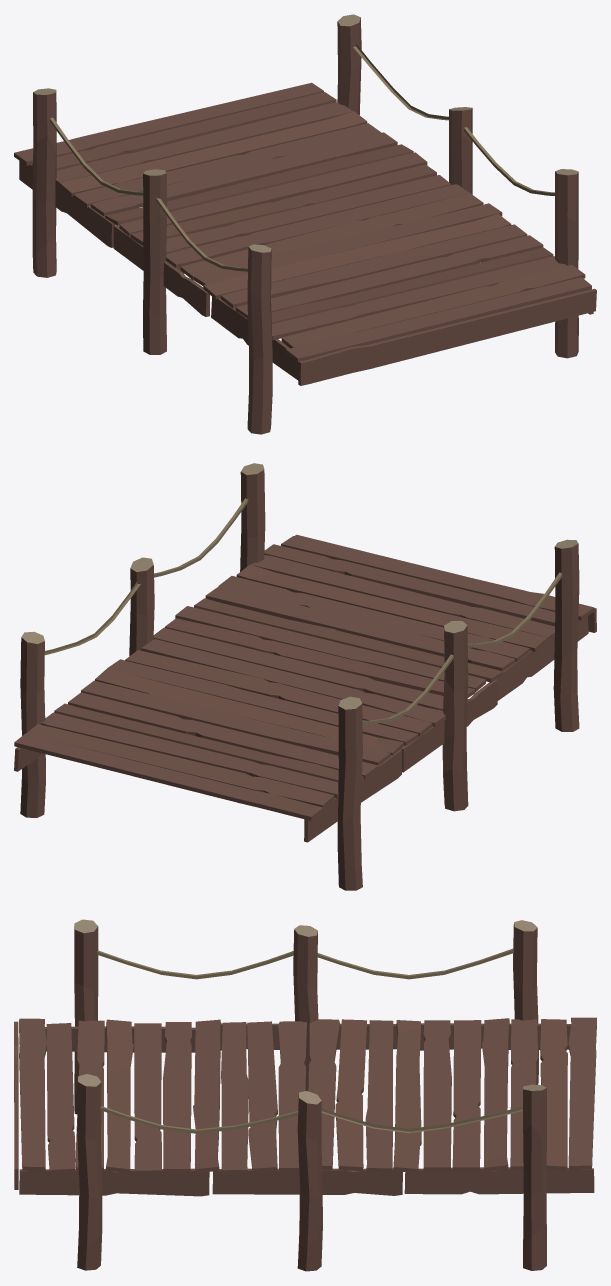
The model's file is Dock_Wide.glb.
The picture shows the model from 3 angles, top to bottom: view 1: azimuth 30°, elevation 25°; view 2: azimuth 150°, elevation 25°; view 3: azimuth 270°, elevation 25°; orthographic projection. The views are drawn at different scales.
Visible parts, largest first — view 1: Dock_Wide; view 2: Dock_Wide; view 3: Dock_Wide.
Part boxes in pixels (x1,y1,x2,y2): Dock_Wide: (14,14,596,434); Dock_Wide: (14,463,596,890); Dock_Wide: (14,919,596,1271).
Size of the model in its own units: 14.63 by 7.68 by 21.69.
